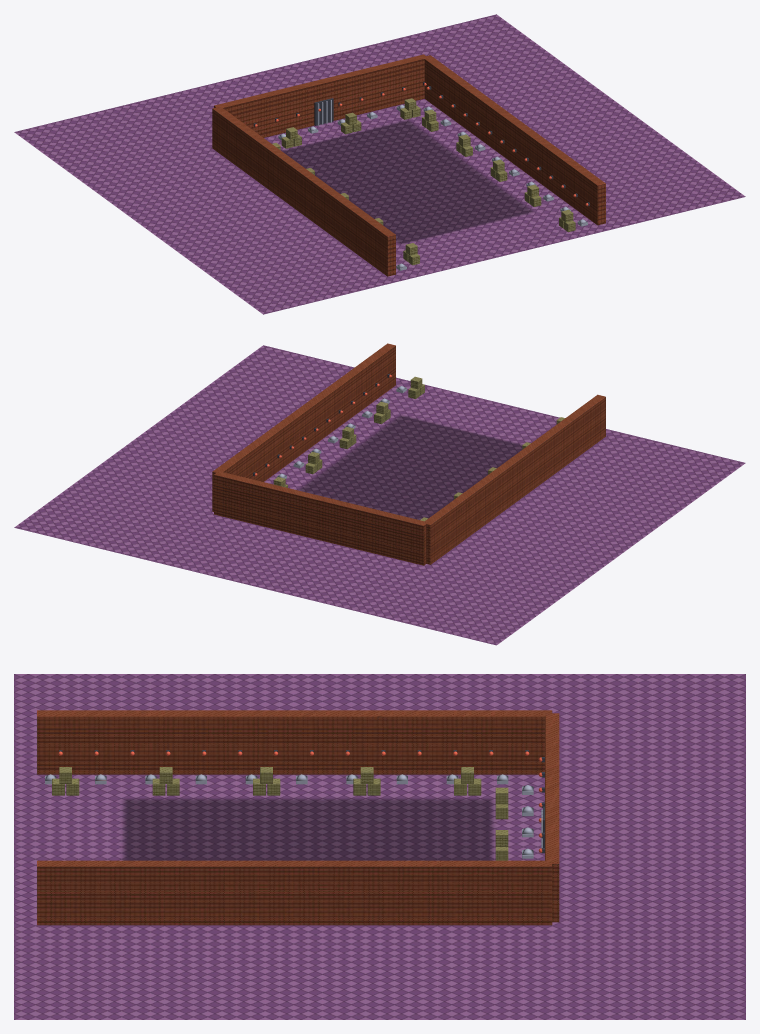
Rendered from surroundings_13x23.glb.
The picture shows the model from 3 angles, top to bottom: view 1: azimuth 30°, elevation 25°; view 2: azimuth 150°, elevation 25°; view 3: azimuth 270°, elevation 25°; orthographic projection. The views are drawn at different scales.
Visible parts, largest first — view 1: ground, props; view 2: ground, props; view 3: ground, props.
Boxes of the visible parts, <box> form: ground: <box>14,14,745,314</box>; props: <box>212,54,605,276</box>; ground: <box>14,345,745,645</box>; props: <box>212,343,605,565</box>; ground: <box>14,674,745,1019</box>; props: <box>37,710,559,925</box>.
Size of the model in its own units: 57 by 4.7 by 51.
Materials: 2 (2 with a texture image).
